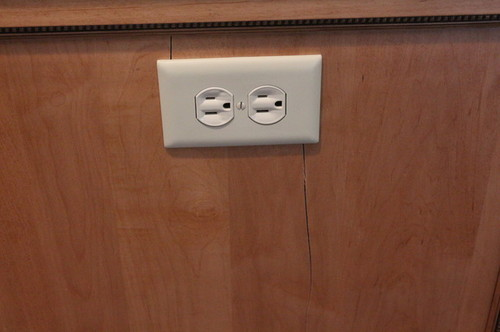outlet: (199, 91, 233, 118), (251, 91, 285, 117)
